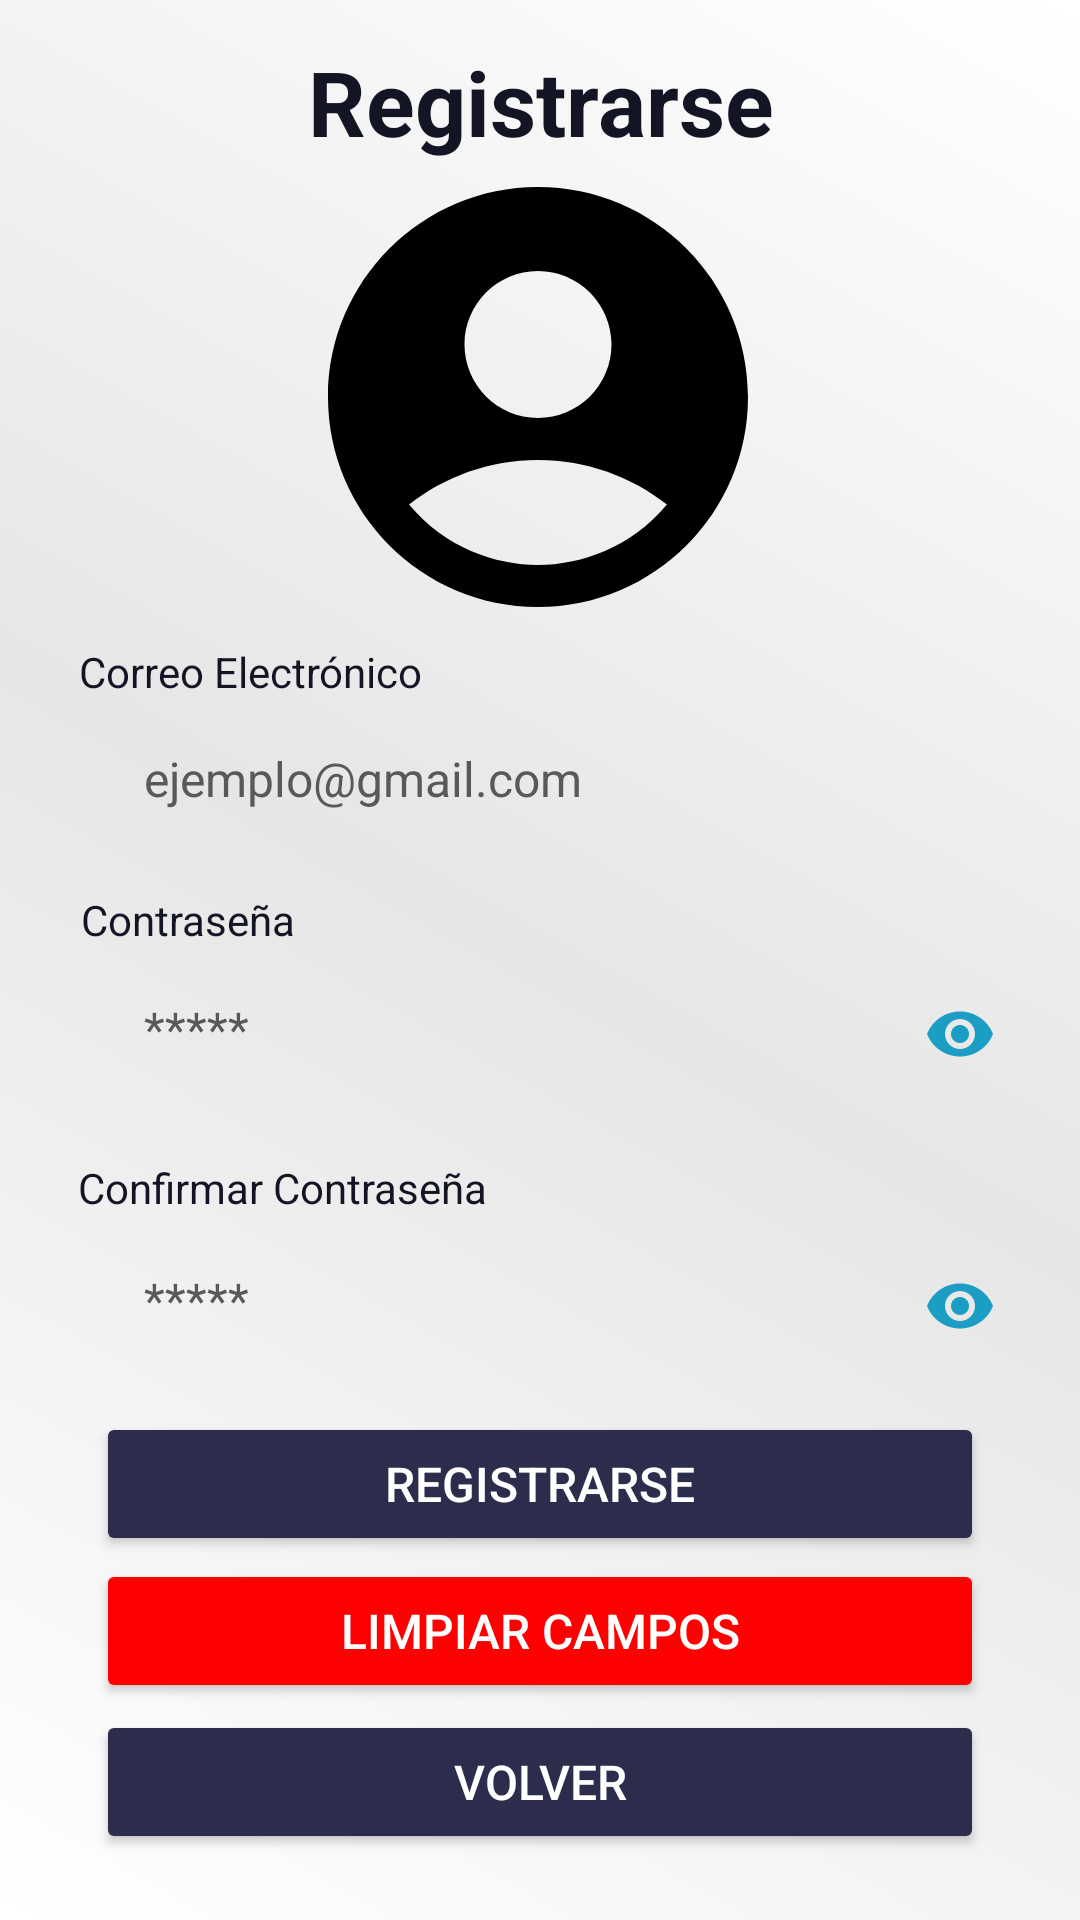

Icons on this 1080 × 1920 Android screen, each with the point to tap as (x=x, y=y):
Ver contraseña: (x=960, y=1034), (x=960, y=1306)
